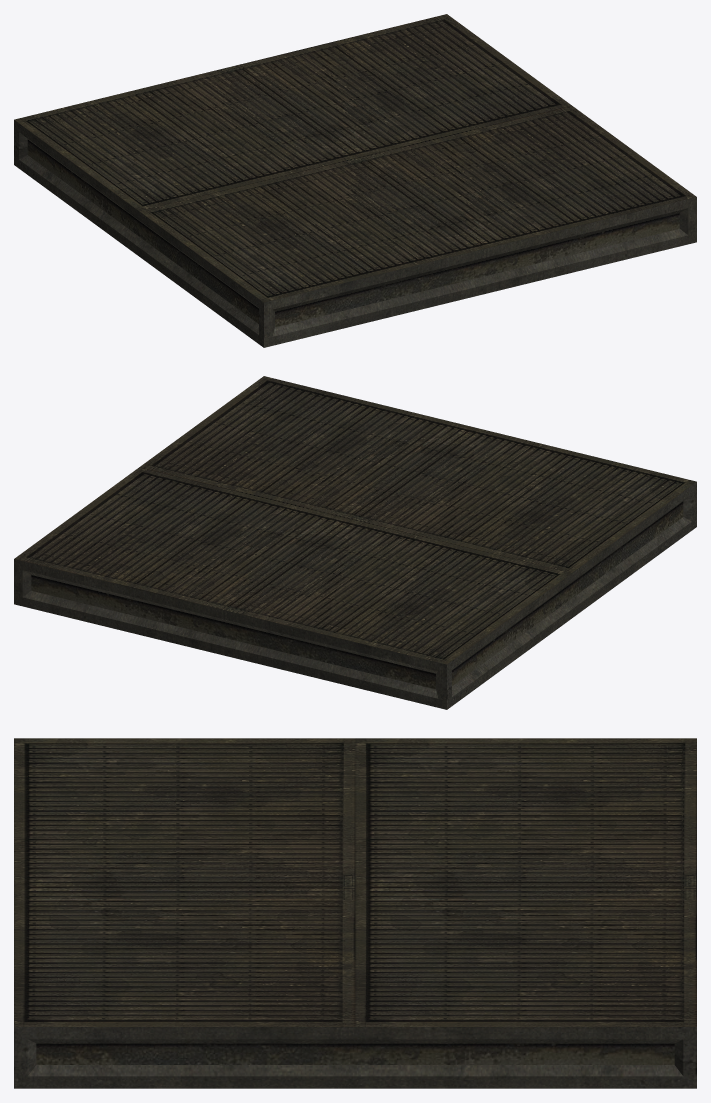
File: floor_ceiling_hy_1.dae
3 views of the same model, one above another, from view 1: azimuth 30°, elevation 25°; view 2: azimuth 150°, elevation 25°; view 3: azimuth 270°, elevation 25° (orthographic). The views are drawn at different scales.
Parts seen in each view (by area): view 1: floor_ceiling_hy_1; view 2: floor_ceiling_hy_1; view 3: floor_ceiling_hy_1.
Part boxes in pixels (x1=…): floor_ceiling_hy_1: x1=14, y1=14, x2=696, y2=347; floor_ceiling_hy_1: x1=14, y1=376, x2=696, y2=709; floor_ceiling_hy_1: x1=14, y1=738, x2=696, y2=1088.
Bounding box in the file's own units: 4 × 4 × 0.4.
3 materials, 3 textured.
